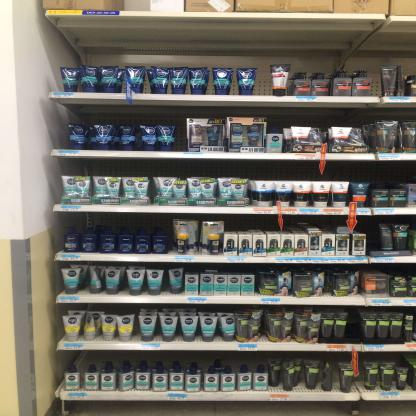Void: (60, 157, 317, 178), (59, 216, 168, 234), (329, 165, 409, 176), (349, 318, 360, 338)
